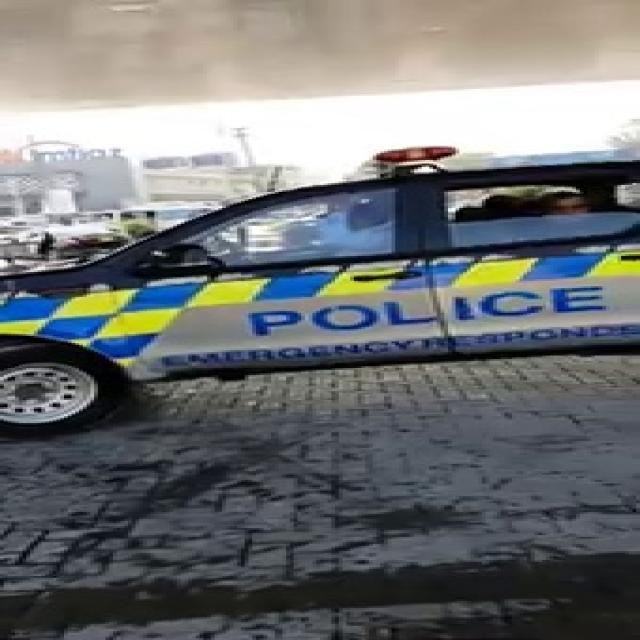police: (7, 83, 640, 430)
